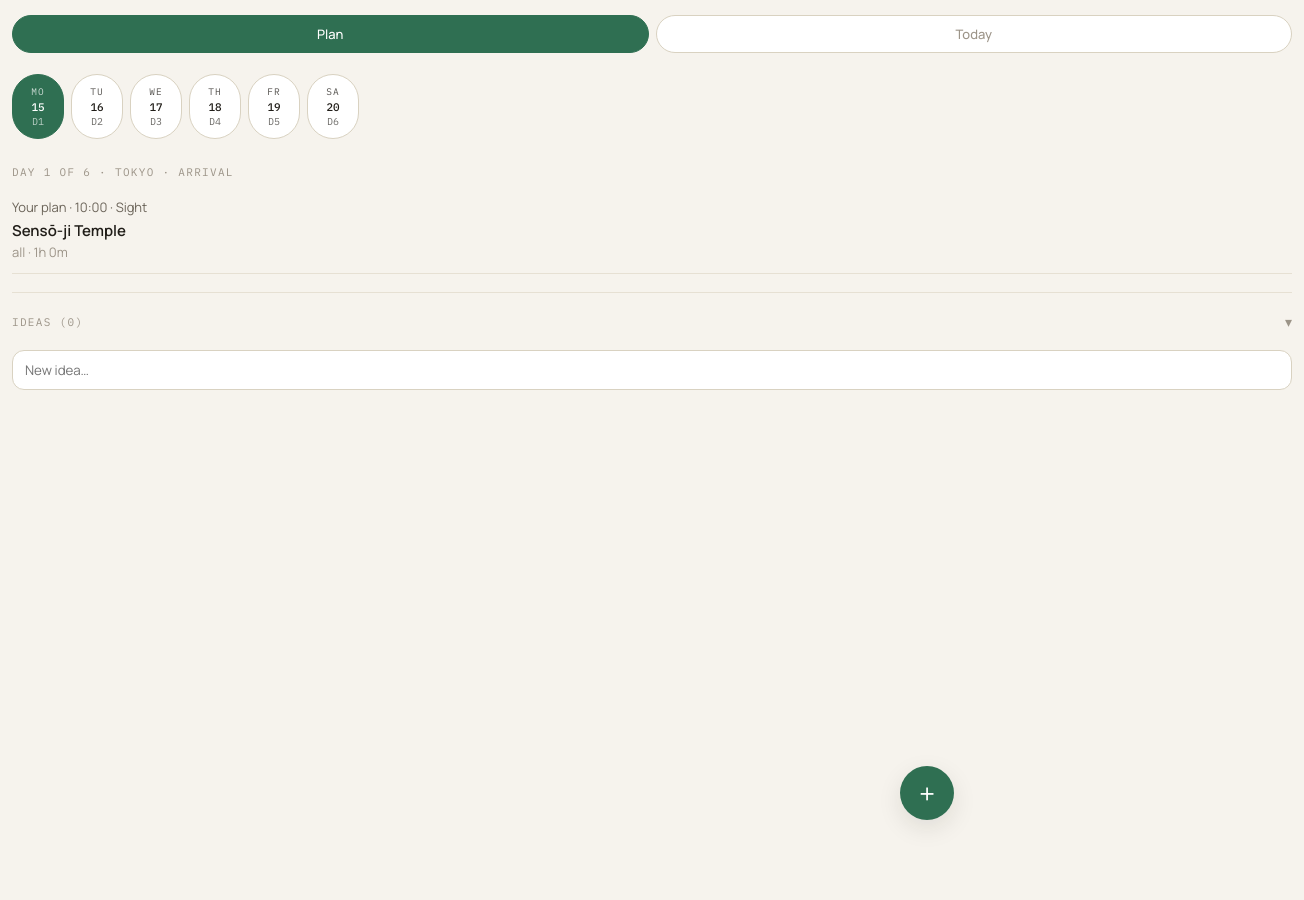
Test case: ItineraryTab — trip-relative day framing › shows no arrival/departure suffix for a day in the middle of a leg
Click the tab "We 17 D3" at (156, 106), box [130, 74, 182, 139]
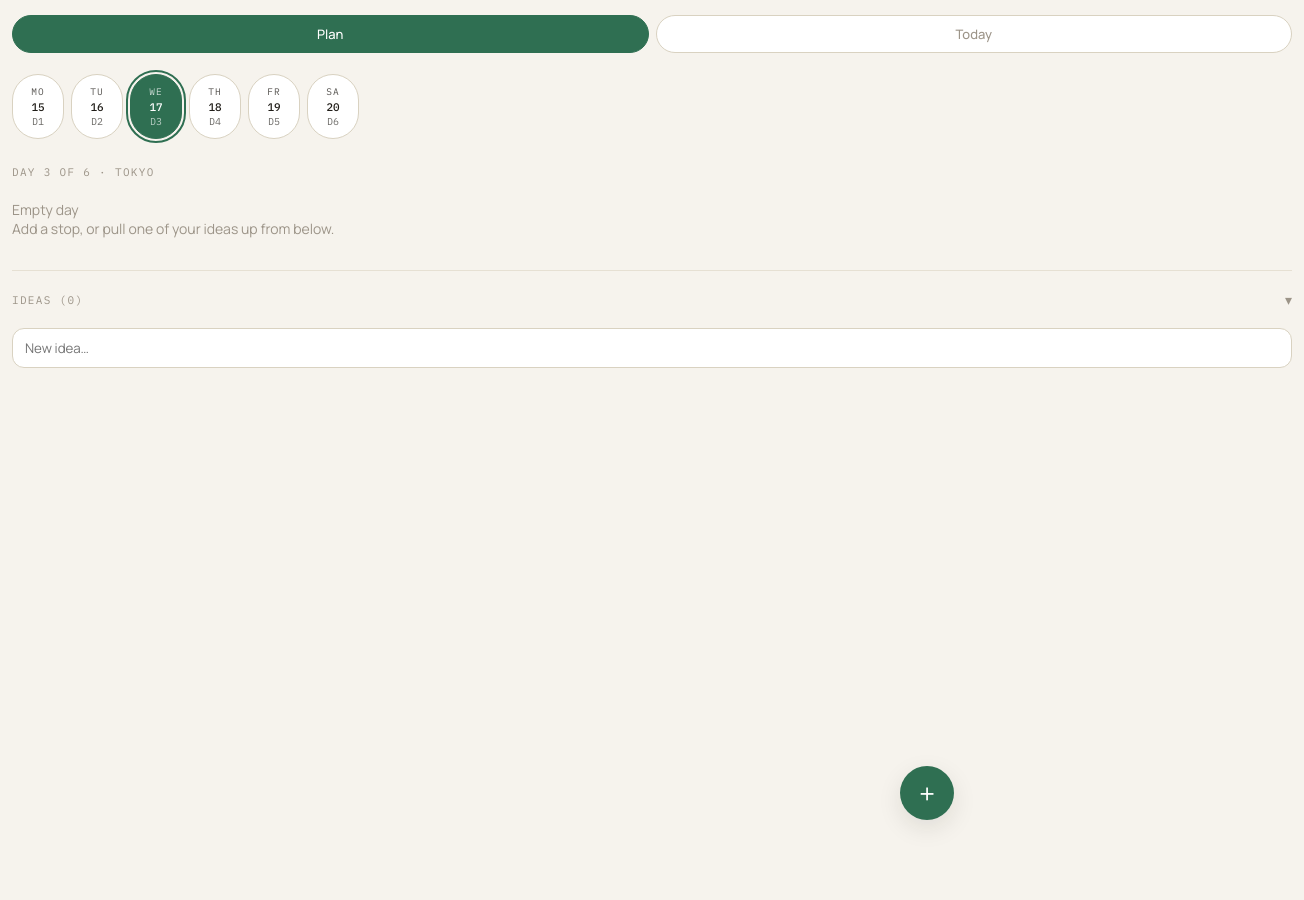
Now the text "DAY 3 OF 6 · TOKYO" is shown, box [12, 165, 155, 179]
Now the text "ARRIVAL" is gone
